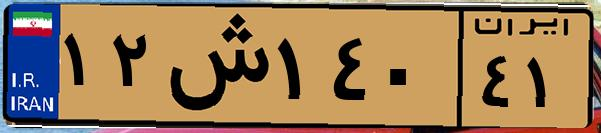0: (385, 28, 445, 110)
1: (270, 28, 330, 110), (57, 26, 110, 100), (525, 38, 570, 115)
2: (110, 28, 158, 98)
4: (330, 28, 385, 110), (475, 38, 525, 113)
ش: (158, 12, 270, 120)
